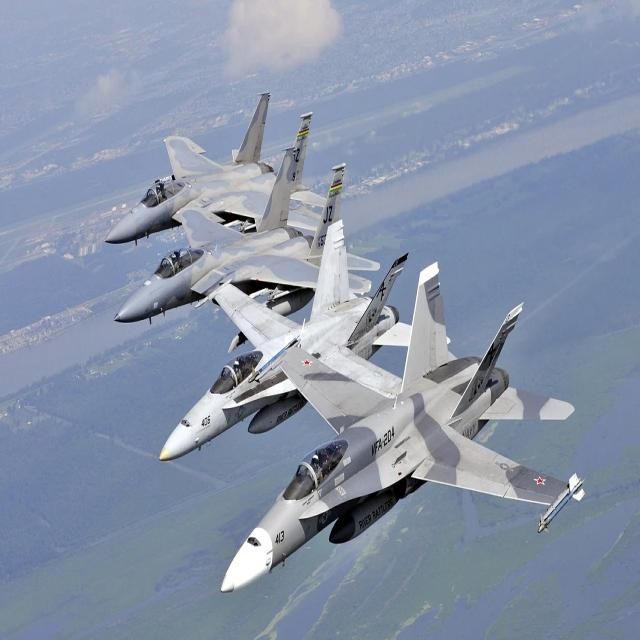MIL_Plane: (220, 259, 588, 594), (158, 219, 452, 463), (112, 146, 380, 325), (103, 91, 329, 246)
